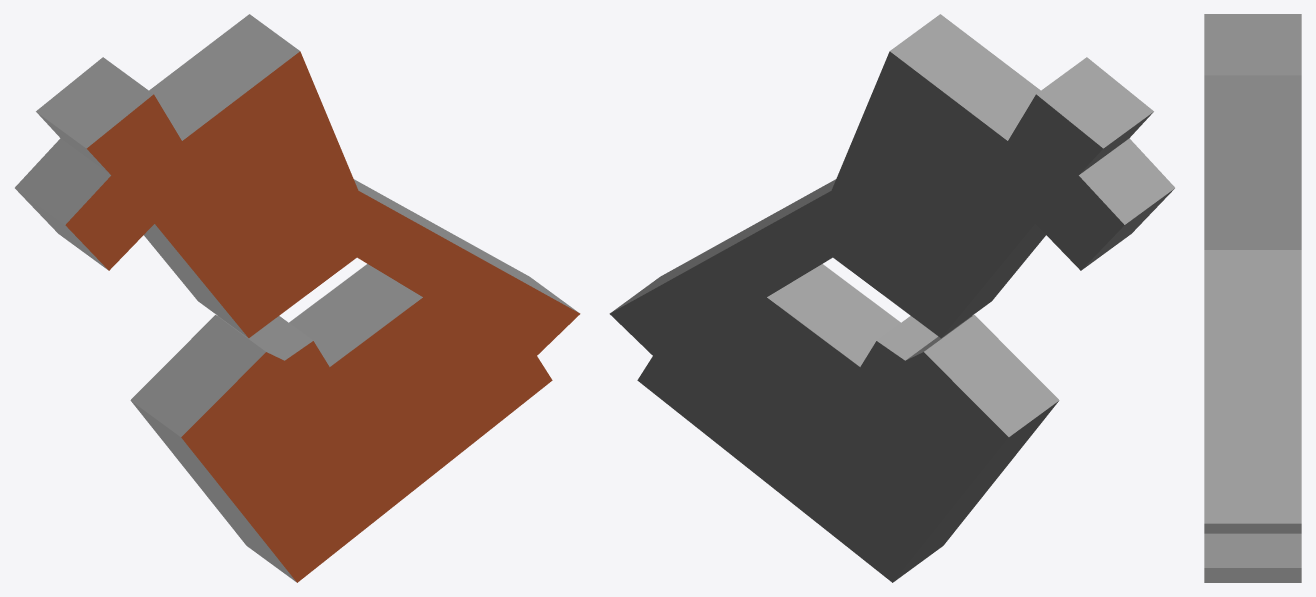
File: construction_3167_assumed_A_Casa_h6m.obj
3 views of the same model, side by side, from view 1: azimuth 30°, elevation 25°; view 2: azimuth 150°, elevation 25°; view 3: azimuth 270°, elevation 25° (orthographic). The views are drawn at different scales.
Parts seen in each view (by area): view 1: construction_3167_assumed_A_Casa; view 2: construction_3167_assumed_A_Casa; view 3: construction_3167_assumed_A_Casa.
Boxes of the visible parts, x1=… form: construction_3167_assumed_A_Casa: x1=15, y1=14, x2=580, y2=582; construction_3167_assumed_A_Casa: x1=609, y1=14, x2=1174, y2=582; construction_3167_assumed_A_Casa: x1=1204, y1=14, x2=1301, y2=582.
Bounding box in the file's own units: 35.14 × 34.61 × 6.
